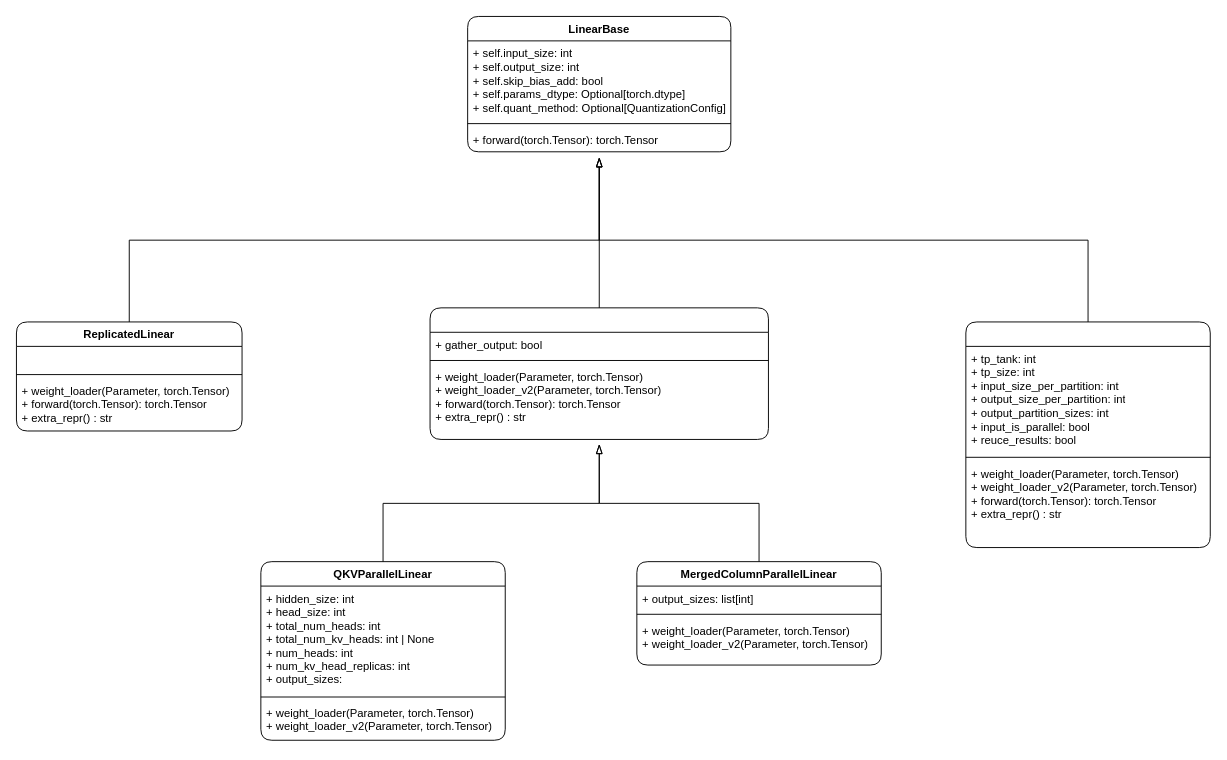
Image size: 1227x760. Some labels were removed from this diagram. The box of each missing label's shape, as (x1, y1, x2, y2) in pixels:
ColumnParallelLinear: (429, 307, 768, 439)
RowParallelLinear: (965, 321, 1210, 548)
